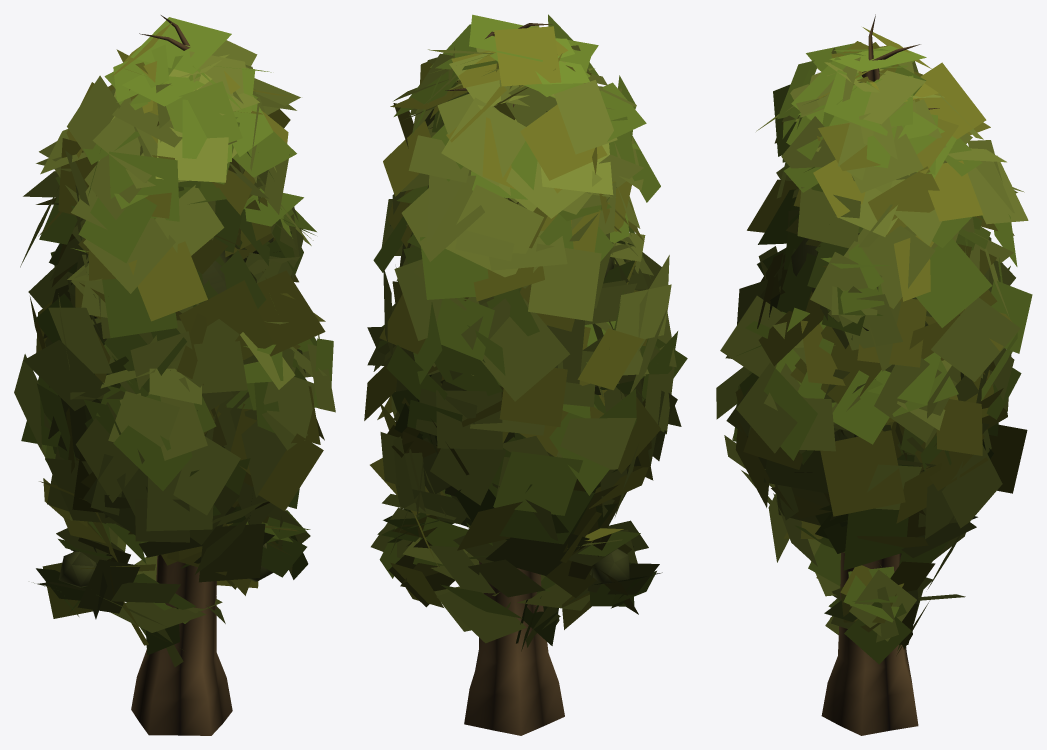
File: tree-02-red.glb
3 renders of one model, left to right at view 1: azimuth 30°, elevation 25°; view 2: azimuth 150°, elevation 25°; view 3: azimuth 270°, elevation 25°, orthographic. The views are drawn at different scales.
Visible parts, largest first — view 1: tree-02-red; view 2: tree-02-red; view 3: tree-02-red.
Boxes of the visible parts, box(x1,y1,x2,y2) form: tree-02-red: box(14, 15, 335, 735); tree-02-red: box(364, 14, 687, 735); tree-02-red: box(716, 14, 1032, 735).
Size of the model in its own units: 2.62 by 6.36 by 2.68.
